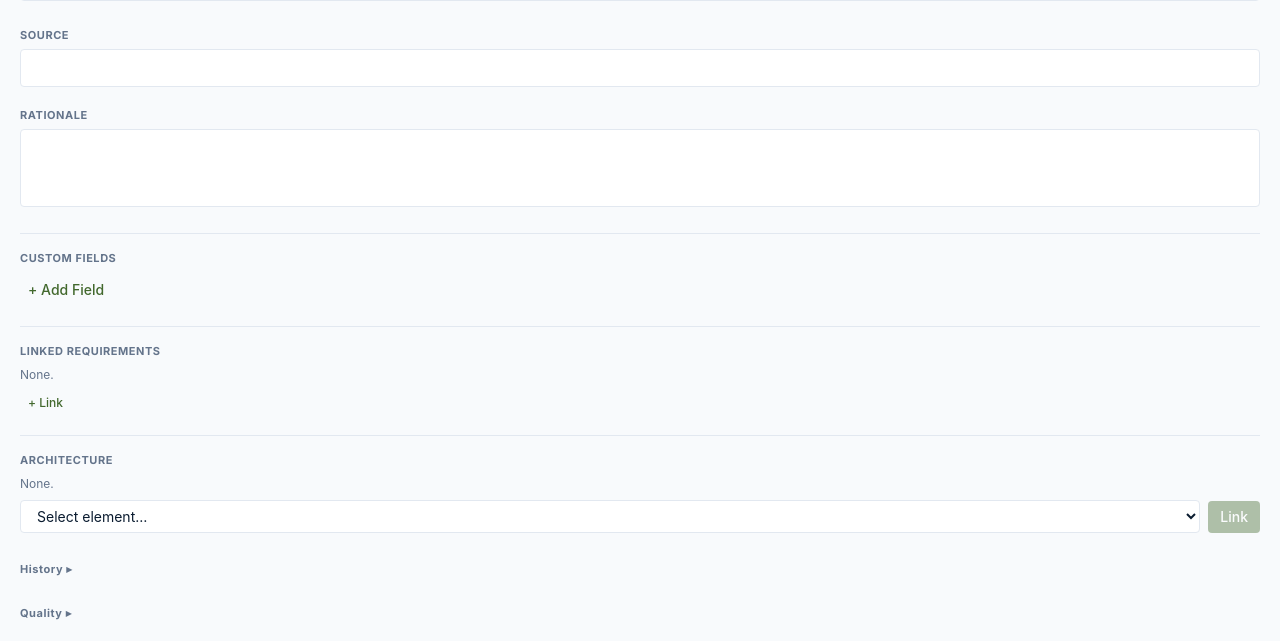
Test case: RequirementDetail history timeline › shows the empty state when there is no history
This screenshot has width=1280, height=641.
(page scrolled)
Step 1. Click the button "History ▸" → (46, 569), box x1=20 y1=561 x2=72 y2=577
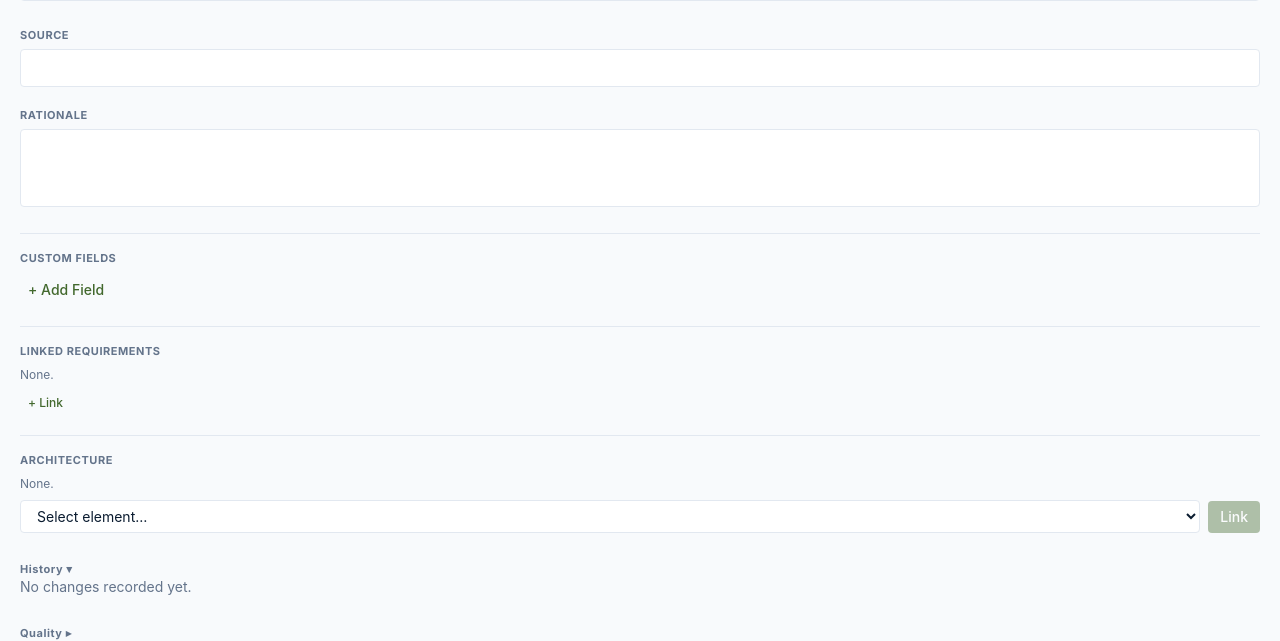
Expected: the text "No changes recorded yet." is shown, x1=20 y1=578 x2=192 y2=595
